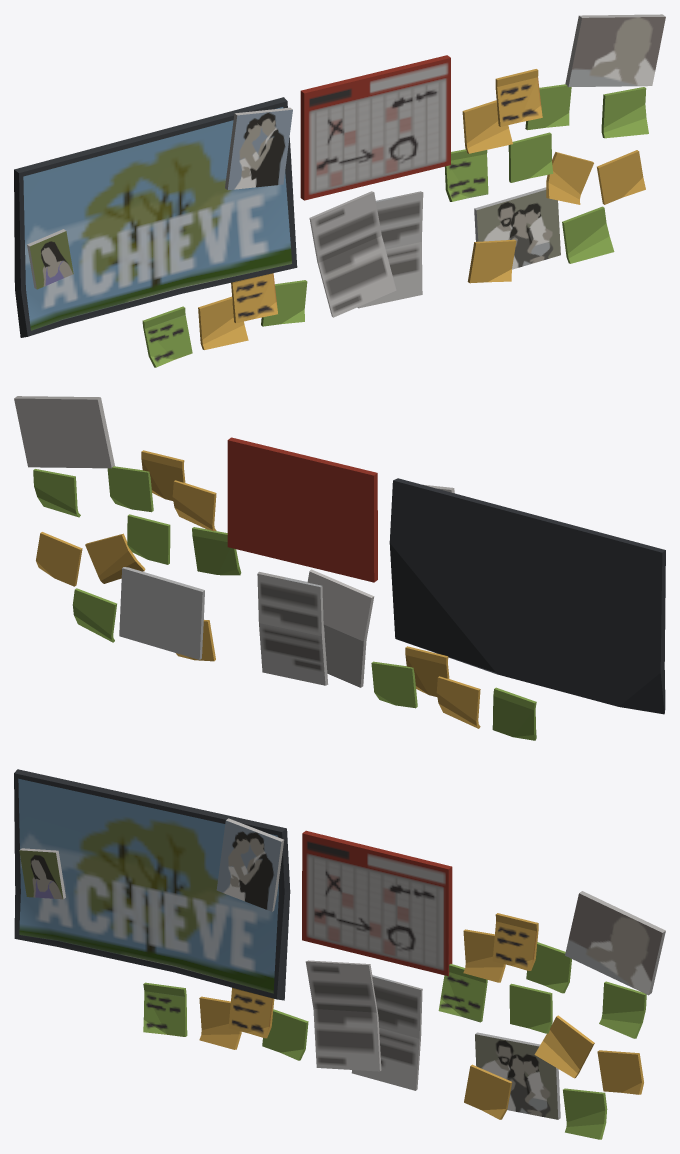
Rendered from SM_Prop_WallDressing_01.glb.
3 views of the same model, one above another, from view 1: azimuth 30°, elevation 25°; view 2: azimuth 150°, elevation 25°; view 3: azimuth 330°, elevation 25° (orthographic).
Parts seen in each view (by area): view 1: SM_Prop_WallDressing_01; view 2: SM_Prop_WallDressing_01; view 3: SM_Prop_WallDressing_01.
Boxes of the visible parts, left/top/right/bottom form: SM_Prop_WallDressing_01: left=14, top=14, right=665, bottom=367; SM_Prop_WallDressing_01: left=14, top=396, right=665, bottom=740; SM_Prop_WallDressing_01: left=14, top=769, right=665, bottom=1139.
Bounding box in the file's own units: 2.27 × 0.8134 × 0.0822.
Materials: 1 (1 with a texture image).
